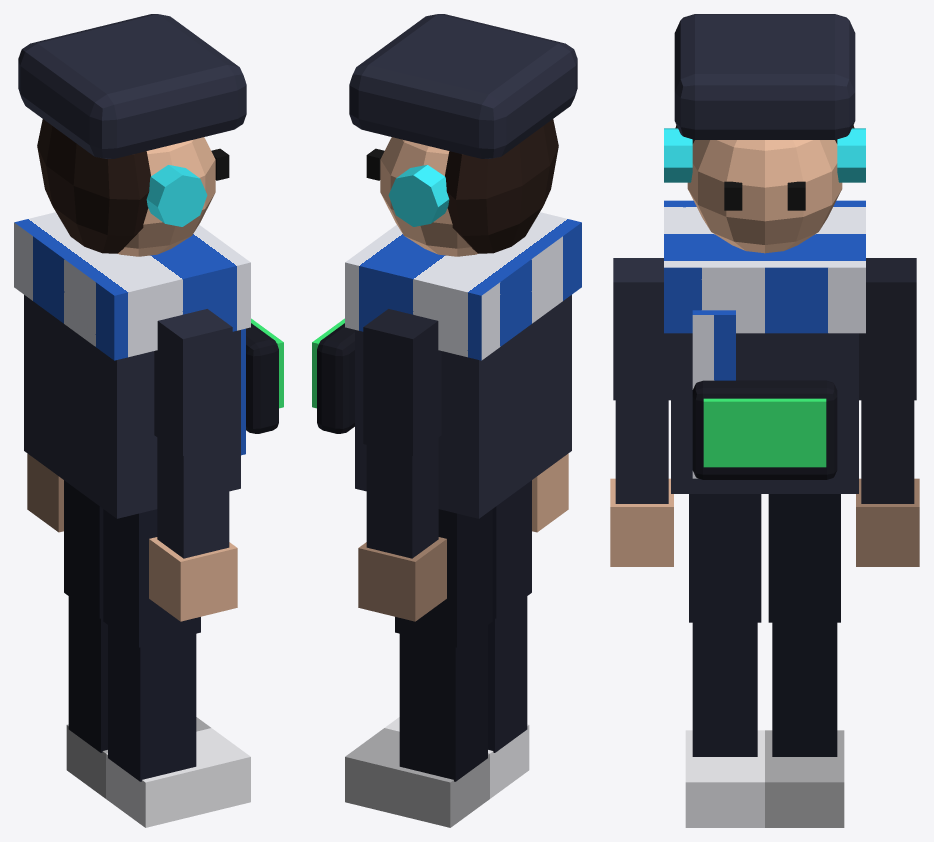
The model's file is pnj_celle_du_stade.glb.
3 renders of one model, left to right at view 1: azimuth 30°, elevation 25°; view 2: azimuth 150°, elevation 25°; view 3: azimuth 270°, elevation 25°, orthographic.
Visible parts, largest first — view 1: p_rbox.172, p_box.1735, p_box.1744, p_box.1730, p_box.1736, p_sph.446, p_box.1731, p_box.1737, p_box.1729, p_box.1738, p_box.1733, p_box.1732 (+7 smaller); view 2: p_rbox.172, p_box.1735, p_box.1744, p_box.1733, p_box.1739, p_sph.446, p_box.1734, p_box.1740, p_box.1732, p_box.1741, p_box.1730, p_box.1729 (+6 smaller); view 3: p_rbox.172, p_box.1744, p_box.1735, p_sph.445, p_box.1732, p_box.1729, p_box.1733, p_box.1730, p_box.1746, p_box.1739, p_box.1736, p_rbox.173 (+9 smaller).
Boxes of the visible parts, <box> form: p_rbox.172: <box>18,14,246,158</box>; p_box.1735: <box>24,295,240,518</box>; p_box.1744: <box>14,212,250,360</box>; p_box.1730: <box>108,625,196,781</box>; p_box.1736: <box>154,309,232,455</box>; p_sph.446: <box>37,119,150,253</box>; p_box.1731: <box>106,728,250,827</box>; p_box.1737: <box>157,437,229,558</box>; p_box.1729: <box>103,509,200,647</box>; p_box.1738: <box>149,537,237,621</box>; p_box.1733: <box>68,596,107,752</box>; p_box.1732: <box>64,480,103,618</box>; p_rbox.172: <box>349,14,577,158</box>; p_box.1735: <box>355,295,571,518</box>; p_box.1744: <box>345,212,581,360</box>; p_box.1733: <box>399,625,487,781</box>; p_box.1739: <box>363,309,441,455</box>; p_sph.446: <box>445,119,558,253</box>; p_box.1734: <box>345,728,489,827</box>; p_box.1740: <box>366,437,438,558</box>; p_box.1732: <box>395,509,492,647</box>; p_box.1741: <box>358,537,446,621</box>; p_box.1730: <box>488,596,527,752</box>; p_box.1729: <box>492,480,531,618</box>; p_rbox.172: <box>674,14,855,139</box>; p_box.1744: <box>664,200,865,333</box>; p_box.1735: <box>671,333,858,493</box>; p_sph.445: <box>687,140,842,253</box>; p_box.1732: <box>768,494,840,622</box>; p_box.1729: <box>689,494,761,622</box>; p_box.1733: <box>772,622,837,756</box>; p_box.1730: <box>692,622,757,756</box>; p_box.1746: <box>703,398,826,467</box>; p_box.1739: <box>859,258,916,400</box>; p_box.1736: <box>613,258,670,400</box>; p_rbox.173: <box>692,380,837,479</box>.
Size of the model in its own units: 0.64 by 2.28 by 0.856.
Materials: 14 (1 with a texture image).
